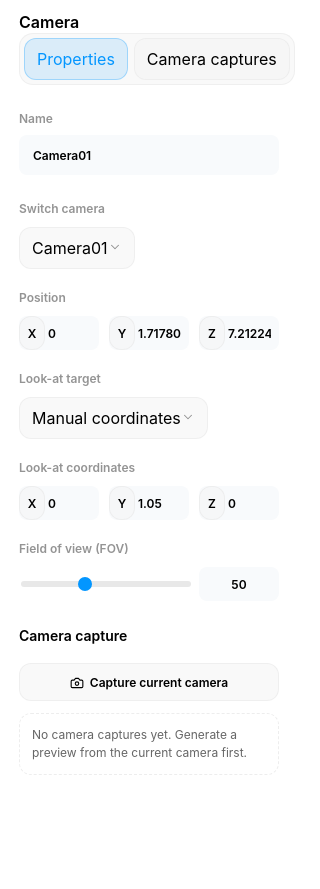
Test: captures the current camera preview from the properties tab and shows it in the screenshots overview
This screenshot has width=320, height=889.
Click the button "Capture current camera".
click(149, 682)  # box [19,663,279,701]
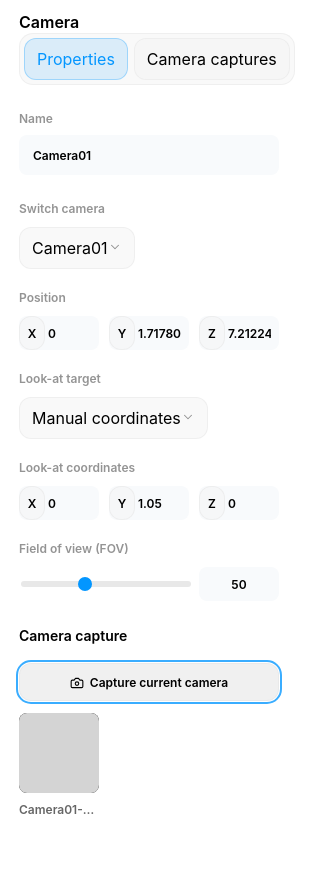
Click the button "Camera captures".
click(212, 59)  # box [134,38,290,80]
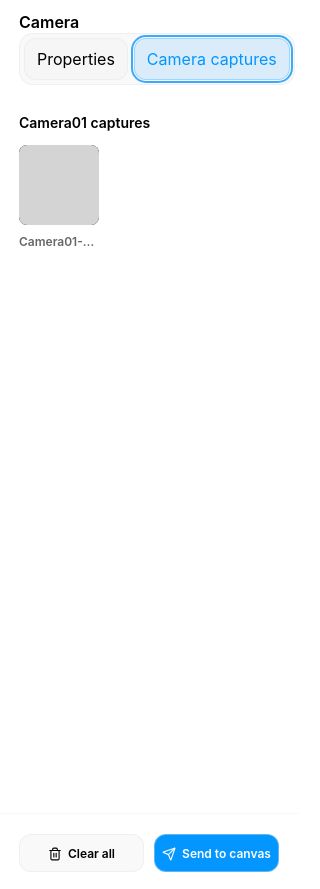
Result: the text "Camera01-Capture01" is shown at [19,233,99,250]
Result: the heading "Camera01 captures" is shown at [19,114,150,131]
